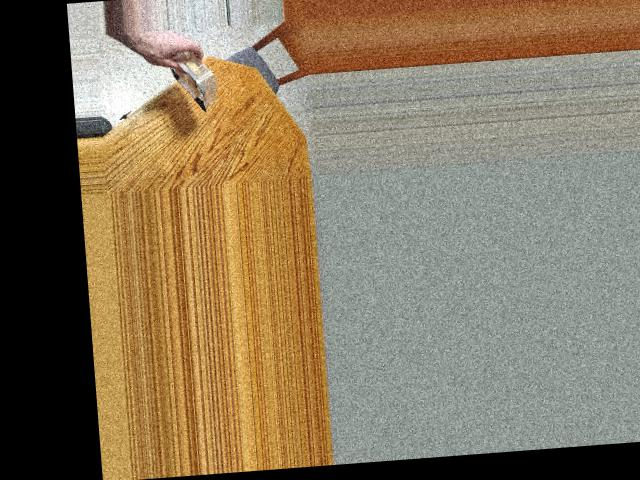cheese: (147, 41, 226, 109)
